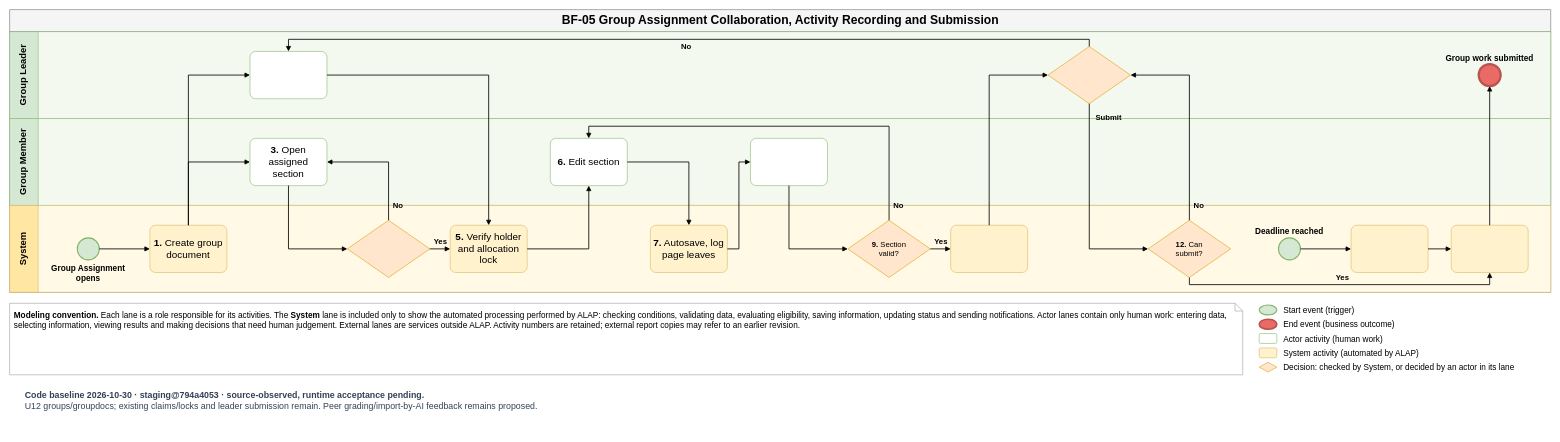
Image size: 1560x442. Some labels were removed from this diagram. The centre of each missing label's shape, as x and y in pixels:
"10. Publish section" goes at (x=989, y=249).
"11. Ready to submit?" goes at (x=1089, y=75).
"13. Auto-submit document" goes at (x=1389, y=249).
"14. Freeze and create evaluations" goes at (x=1489, y=249).
"2. Assign sections Lock allocation" goes at (x=288, y=75).
"4. Assigned to member?" goes at (x=388, y=248).
"8. Mark section Done" goes at (x=788, y=162).
